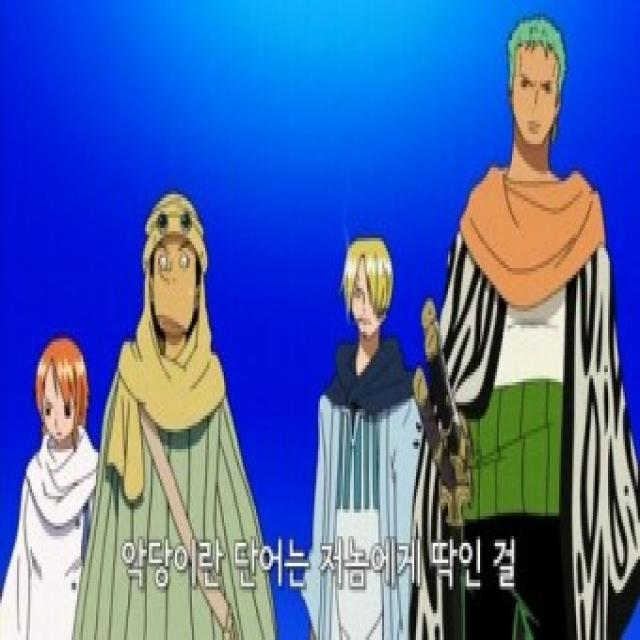Nami: (27, 329, 100, 467)
Sangdi: (326, 227, 406, 357)
Usopp: (129, 176, 222, 385)
Zoro: (496, 15, 574, 167)
